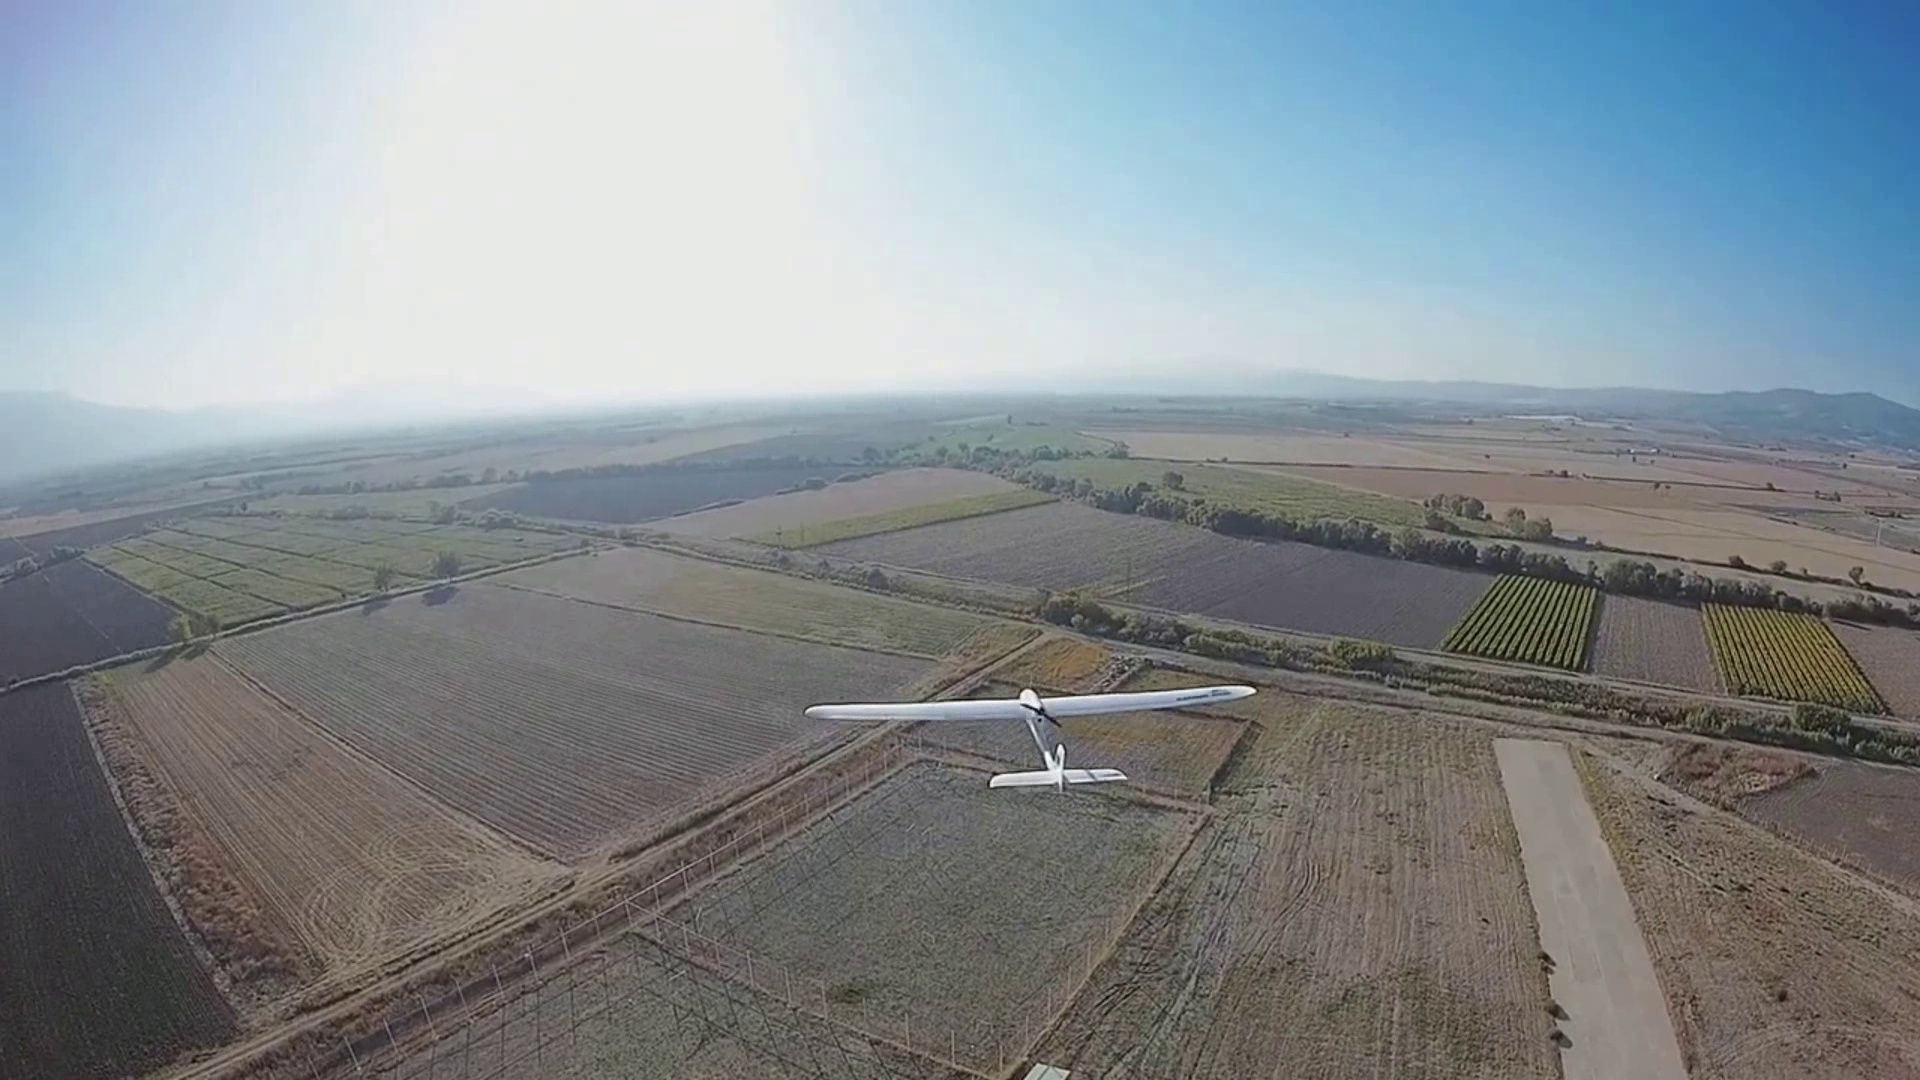airplane: (803, 669, 1261, 791)
